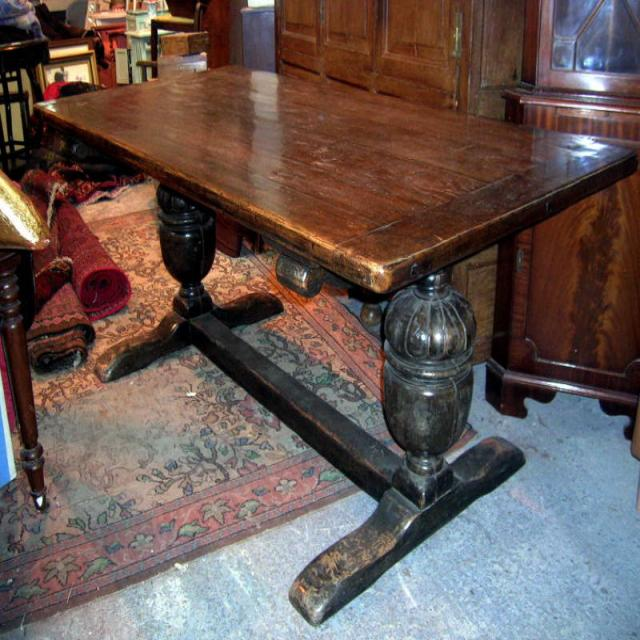table: (29, 56, 640, 628)
